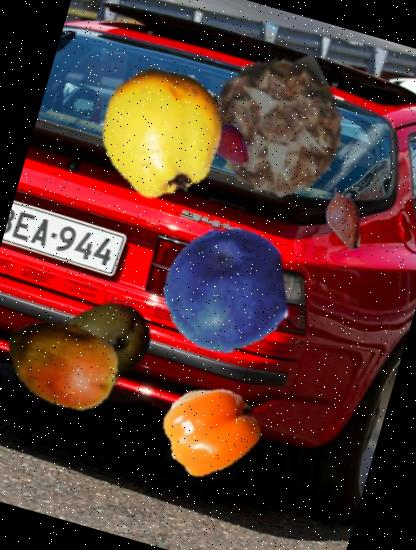Huckleberry: (149, 214, 302, 367)
Papaya: (0, 287, 136, 435), (38, 280, 165, 408)
Pepper: (152, 369, 270, 487)
Pineapple: (190, 38, 366, 214)
Quince: (82, 49, 245, 212)
Salak: (304, 179, 384, 258), (199, 116, 263, 180)
